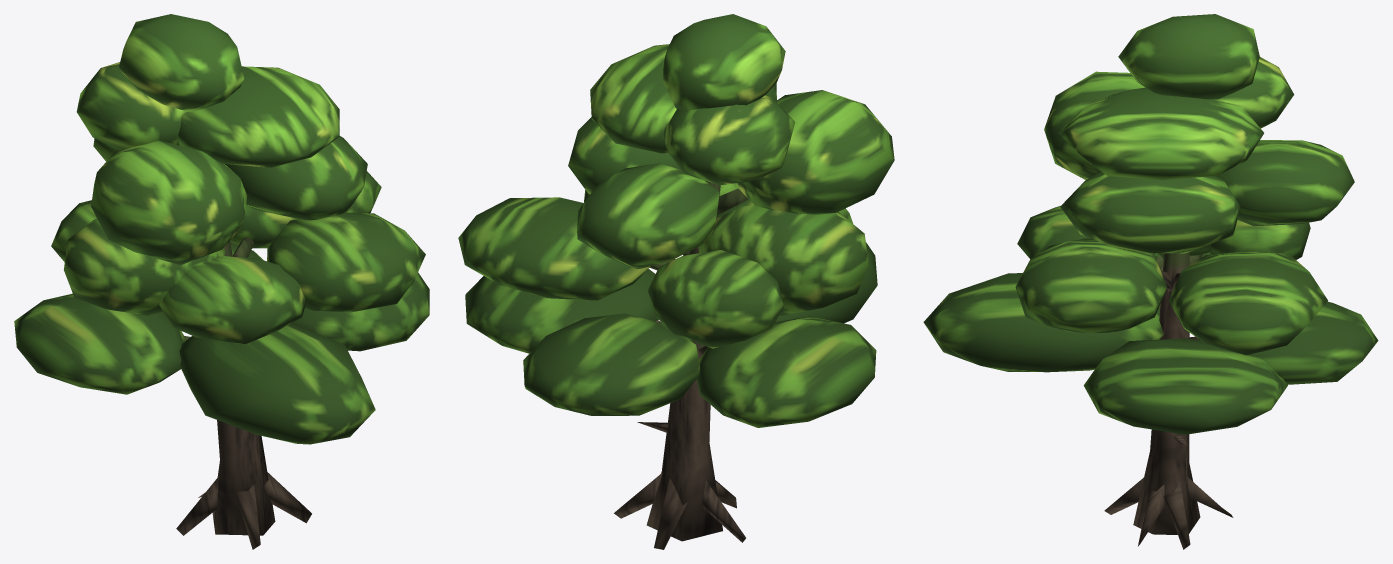
Rendered from Canopy_Tree_C_Far.glb.
3 views of the same model, side by side, from view 1: azimuth 30°, elevation 25°; view 2: azimuth 150°, elevation 25°; view 3: azimuth 270°, elevation 25° (orthographic). The views are drawn at different scales.
Parts seen in each view (by area): view 1: Canopy_Tree_C_Far__Leaves, Canopy_Tree_C_Far__Bark; view 2: Canopy_Tree_C_Far__Leaves, Canopy_Tree_C_Far__Bark; view 3: Canopy_Tree_C_Far__Leaves, Canopy_Tree_C_Far__Bark.
Part boxes in pixels (x1,y1,x2,y2): Canopy_Tree_C_Far__Leaves: [14, 14, 429, 444]; Canopy_Tree_C_Far__Bark: [176, 237, 311, 549]; Canopy_Tree_C_Far__Leaves: [458, 14, 894, 427]; Canopy_Tree_C_Far__Bark: [614, 180, 748, 549]; Canopy_Tree_C_Far__Leaves: [923, 14, 1378, 434]; Canopy_Tree_C_Far__Bark: [1104, 252, 1233, 549].
Bounding box in the file's own units: 38.65 × 49.59 × 42.33.
1 material, 1 textured.
